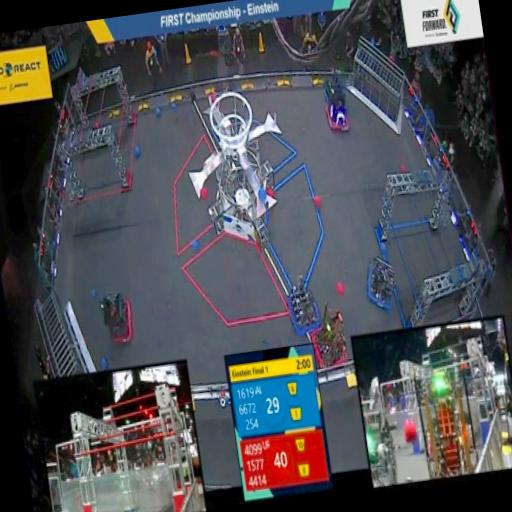robot: (306, 302, 350, 373), (359, 250, 401, 318), (282, 278, 323, 339), (98, 288, 134, 346), (322, 96, 355, 140), (317, 67, 349, 109)
